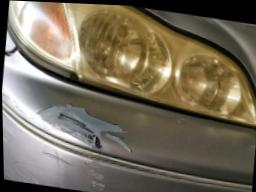Bumper: (2, 53, 141, 192)
